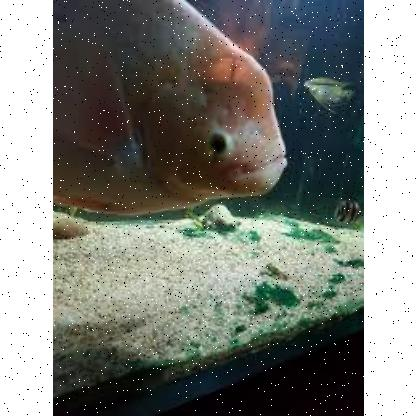gurame: (52, 0, 292, 218)
